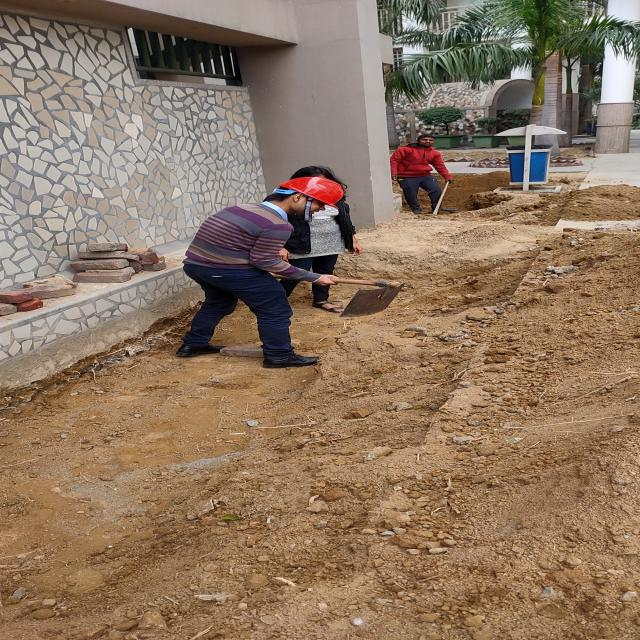no jacket: (174, 177, 338, 369)
unsafe: (391, 134, 457, 214)
